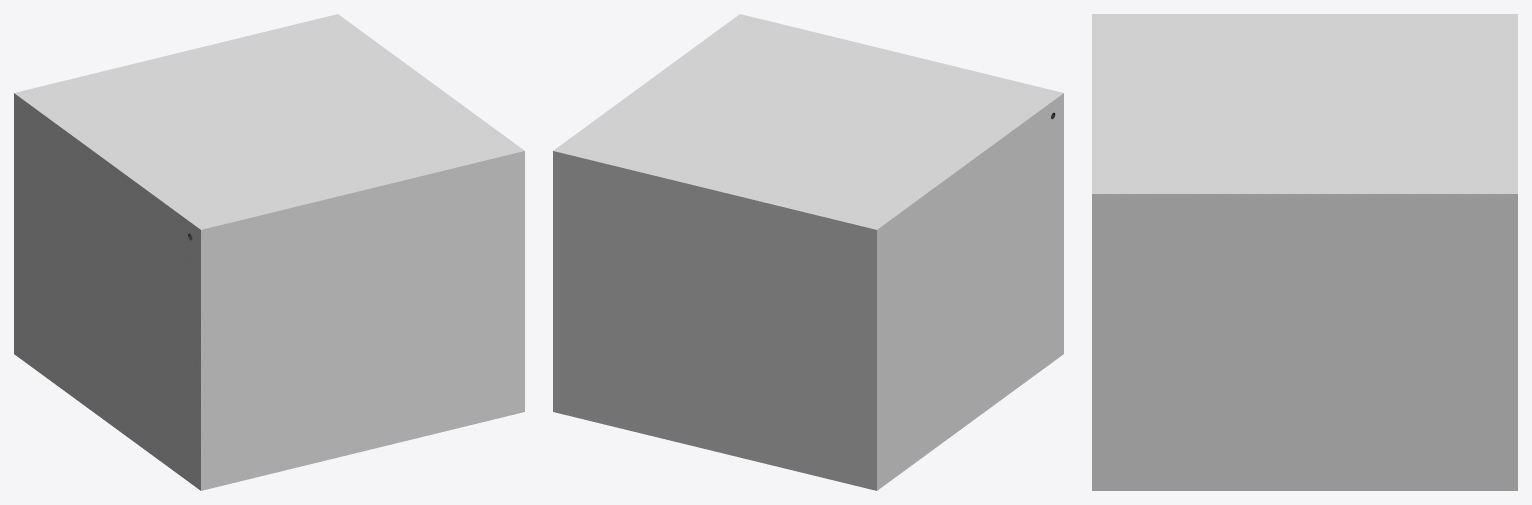
Rendered from wwPalace.fbx.
3 renders of one model, left to right at view 1: azimuth 30°, elevation 25°; view 2: azimuth 150°, elevation 25°; view 3: azimuth 270°, elevation 25°, orthographic. The views are drawn at different scales.
Parts seen in each view (by area): view 1: ww_palacebuilding; view 2: ww_palacebuilding; view 3: ww_palacebuilding.
Part boxes in pixels (bbox=[...]): ww_palacebuilding: bbox=[14, 14, 524, 490]; ww_palacebuilding: bbox=[553, 14, 1063, 490]; ww_palacebuilding: bbox=[1092, 14, 1517, 490].
Size of the model in its own units: 1906 by 1906 by 1468.
